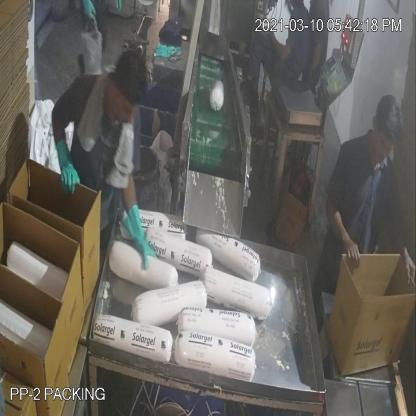glove: (122, 194, 160, 273), (50, 128, 80, 198)
no_glove: (320, 183, 368, 279), (391, 226, 416, 284)
